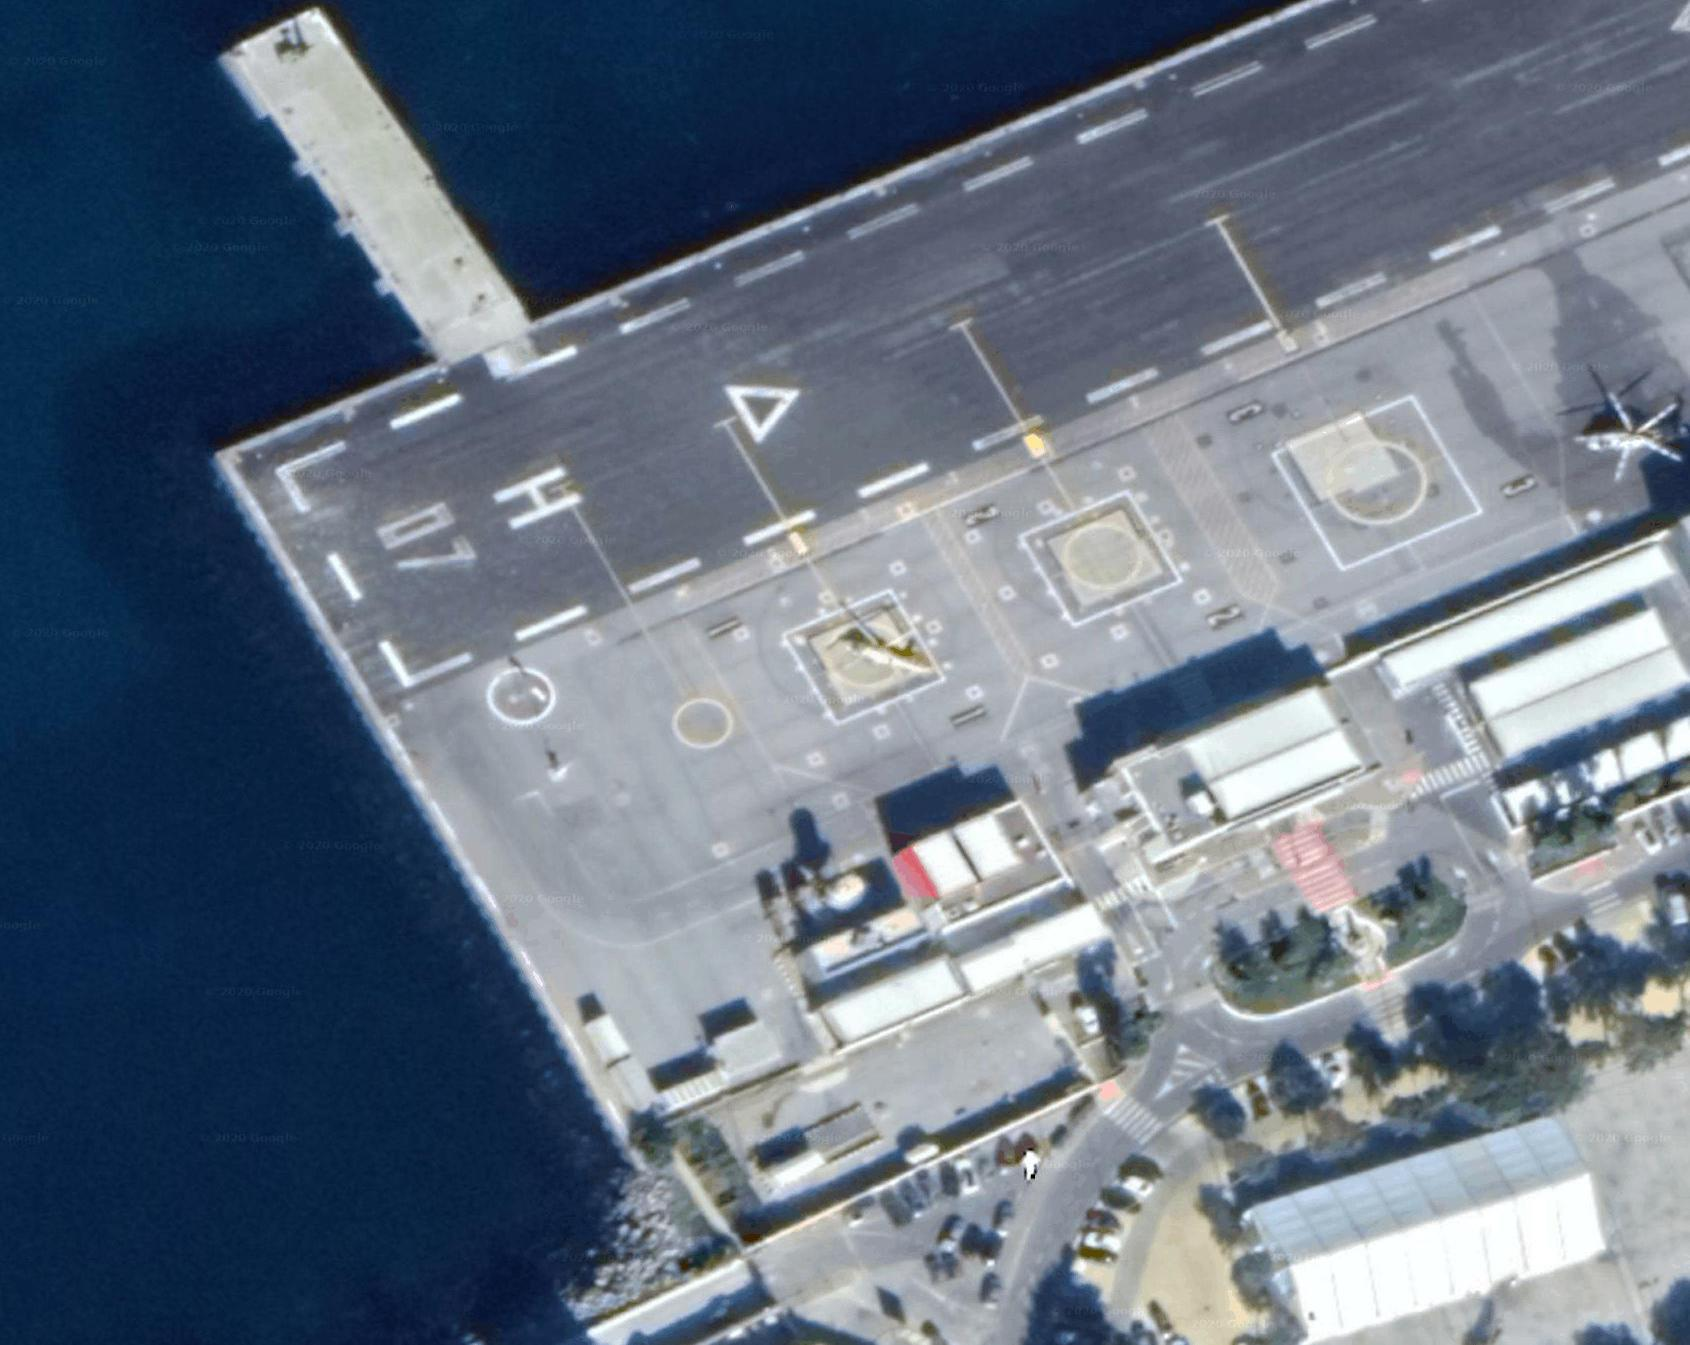helicopter: (1551, 344, 1686, 500), (834, 605, 938, 690)
helipad: (1289, 414, 1471, 550), (1015, 495, 1191, 618), (774, 585, 949, 705)
